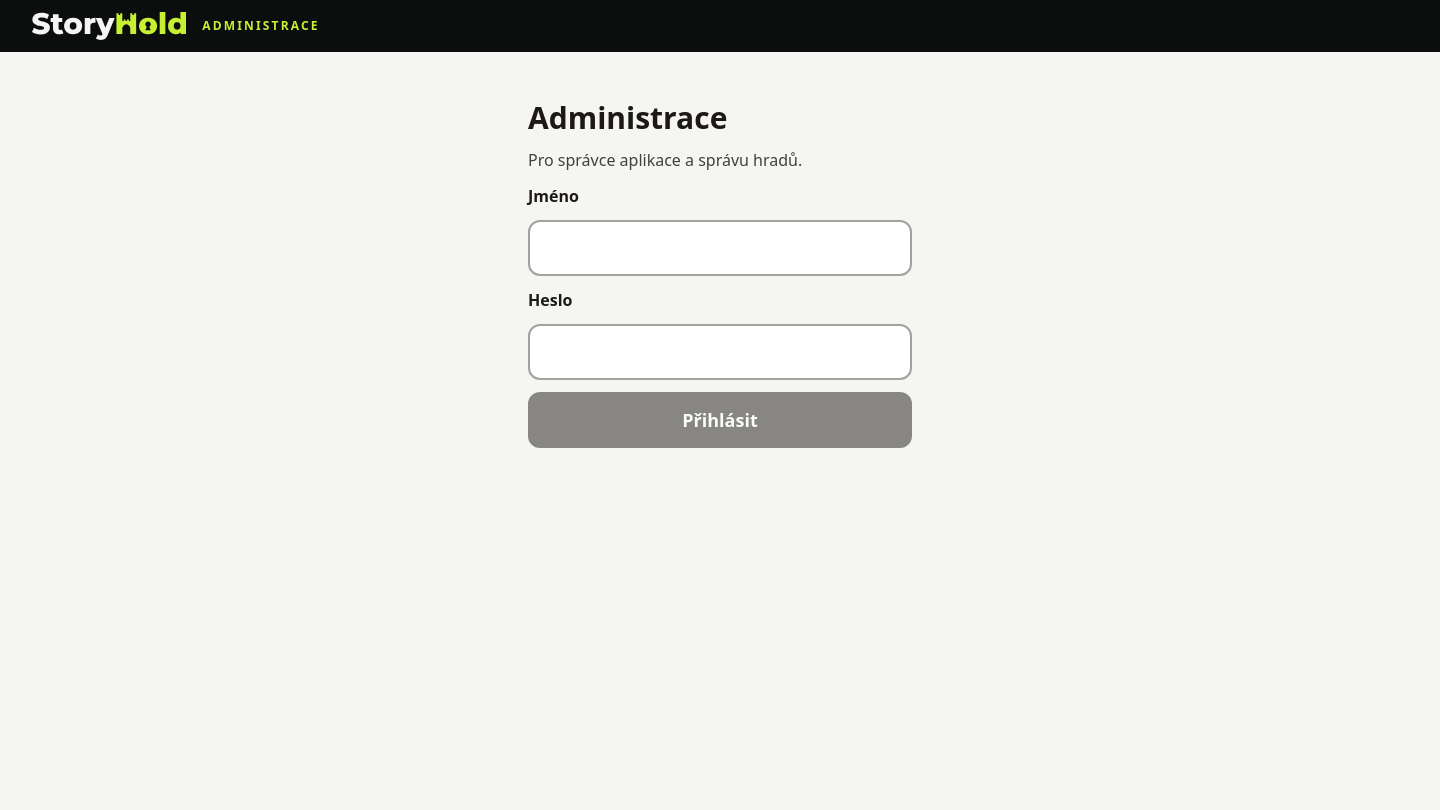
Test: AdminPage — operator › logs in with the CSRF token from the cookie and shows the dashboard
Step 1. Type "admin" into the field labelled "Jméno" → (720, 248), box [528,220,912,276]
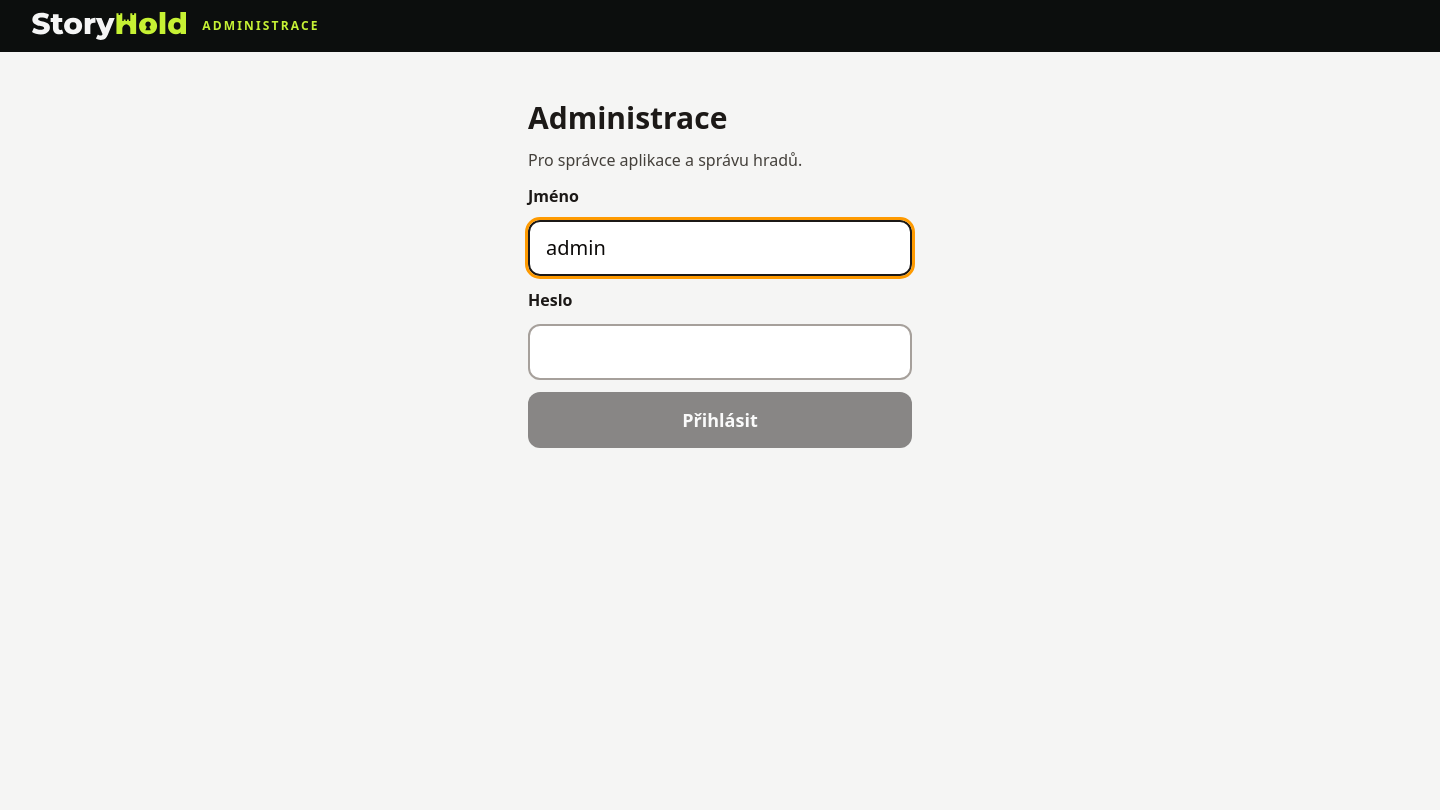
Step 2. Type "tajne" into the password field labelled "Heslo" → (720, 352), box [528,324,912,380]
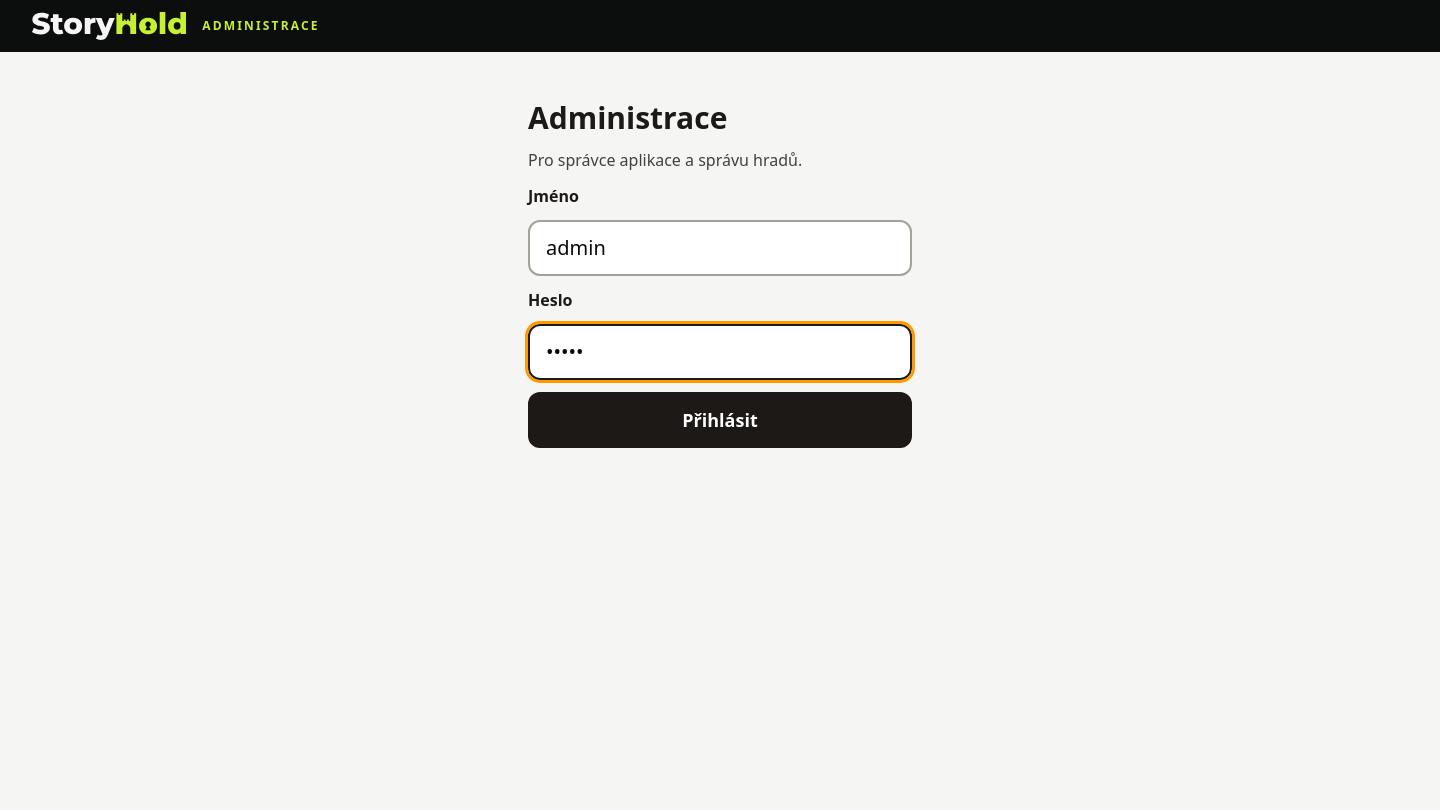
Step 3. Click the button "Přihlásit" → (720, 420), box [528,392,912,448]
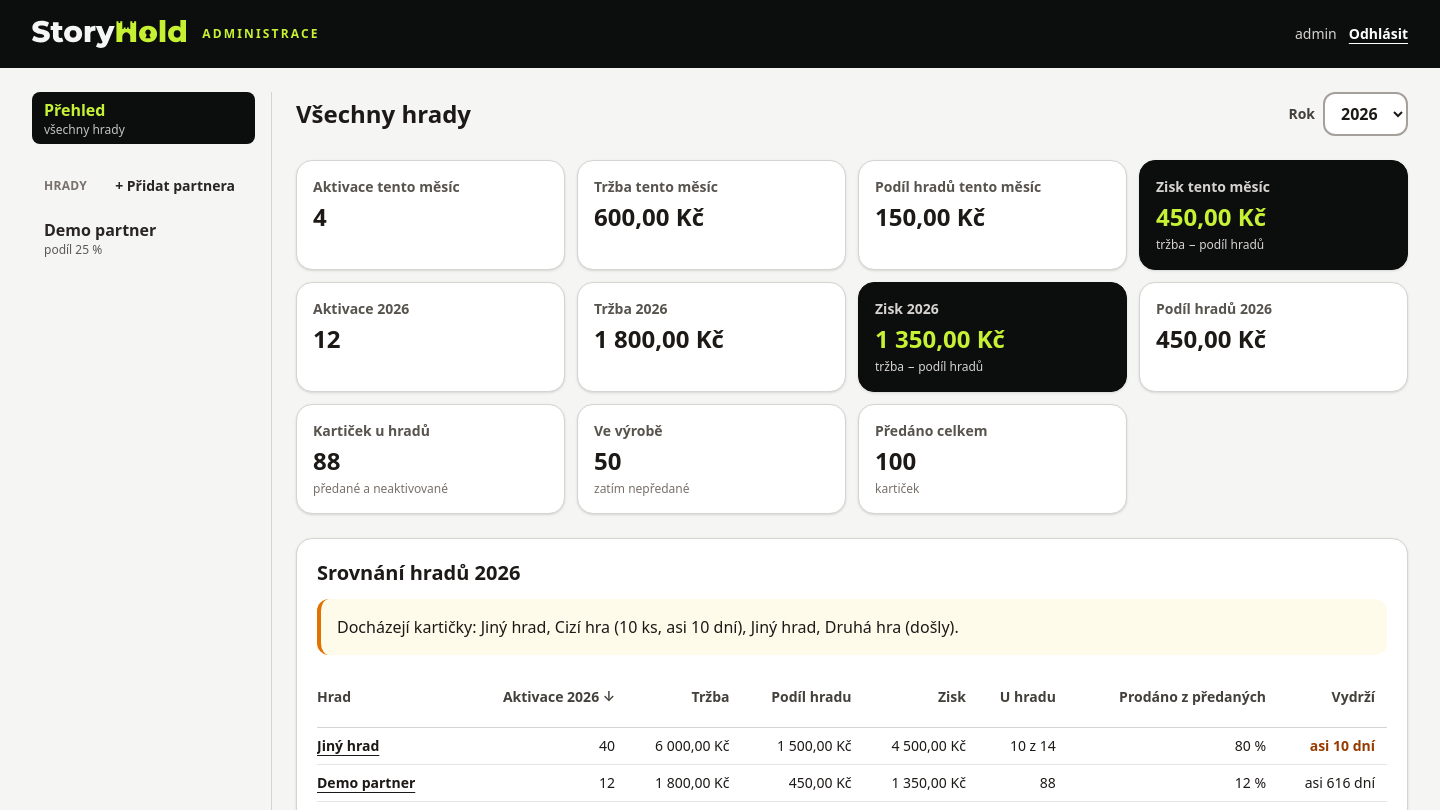
Expected: the heading "Všechny hrady" is shown, [296,98,471,130]
